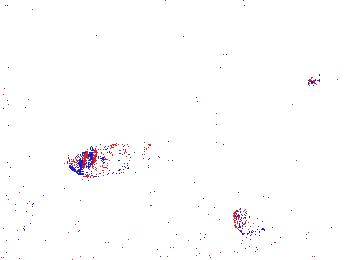X-ray fish: (65, 144, 149, 177), (232, 205, 263, 235)
red belly glassfish: (306, 72, 320, 92)
